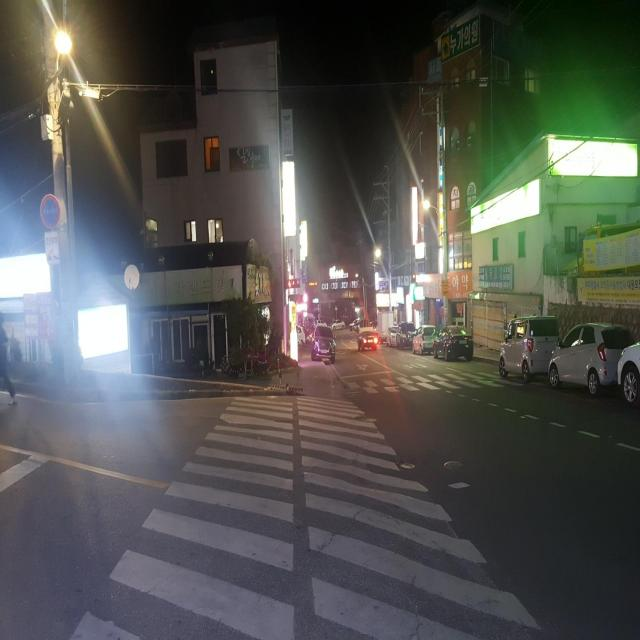횡단보도: (65, 389, 545, 640), (347, 372, 543, 388)
